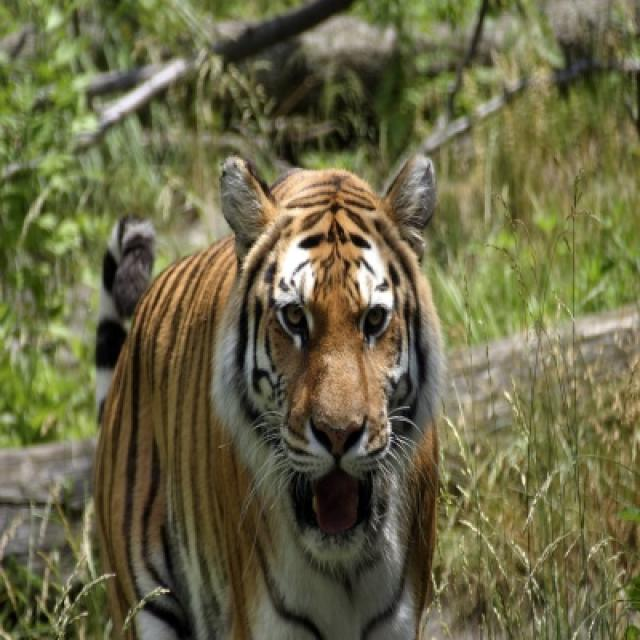Tiger: (94, 155, 445, 638)
